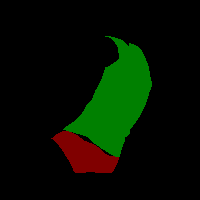abbigliamento: (63, 36, 152, 157)
mutande: (51, 130, 119, 173)
